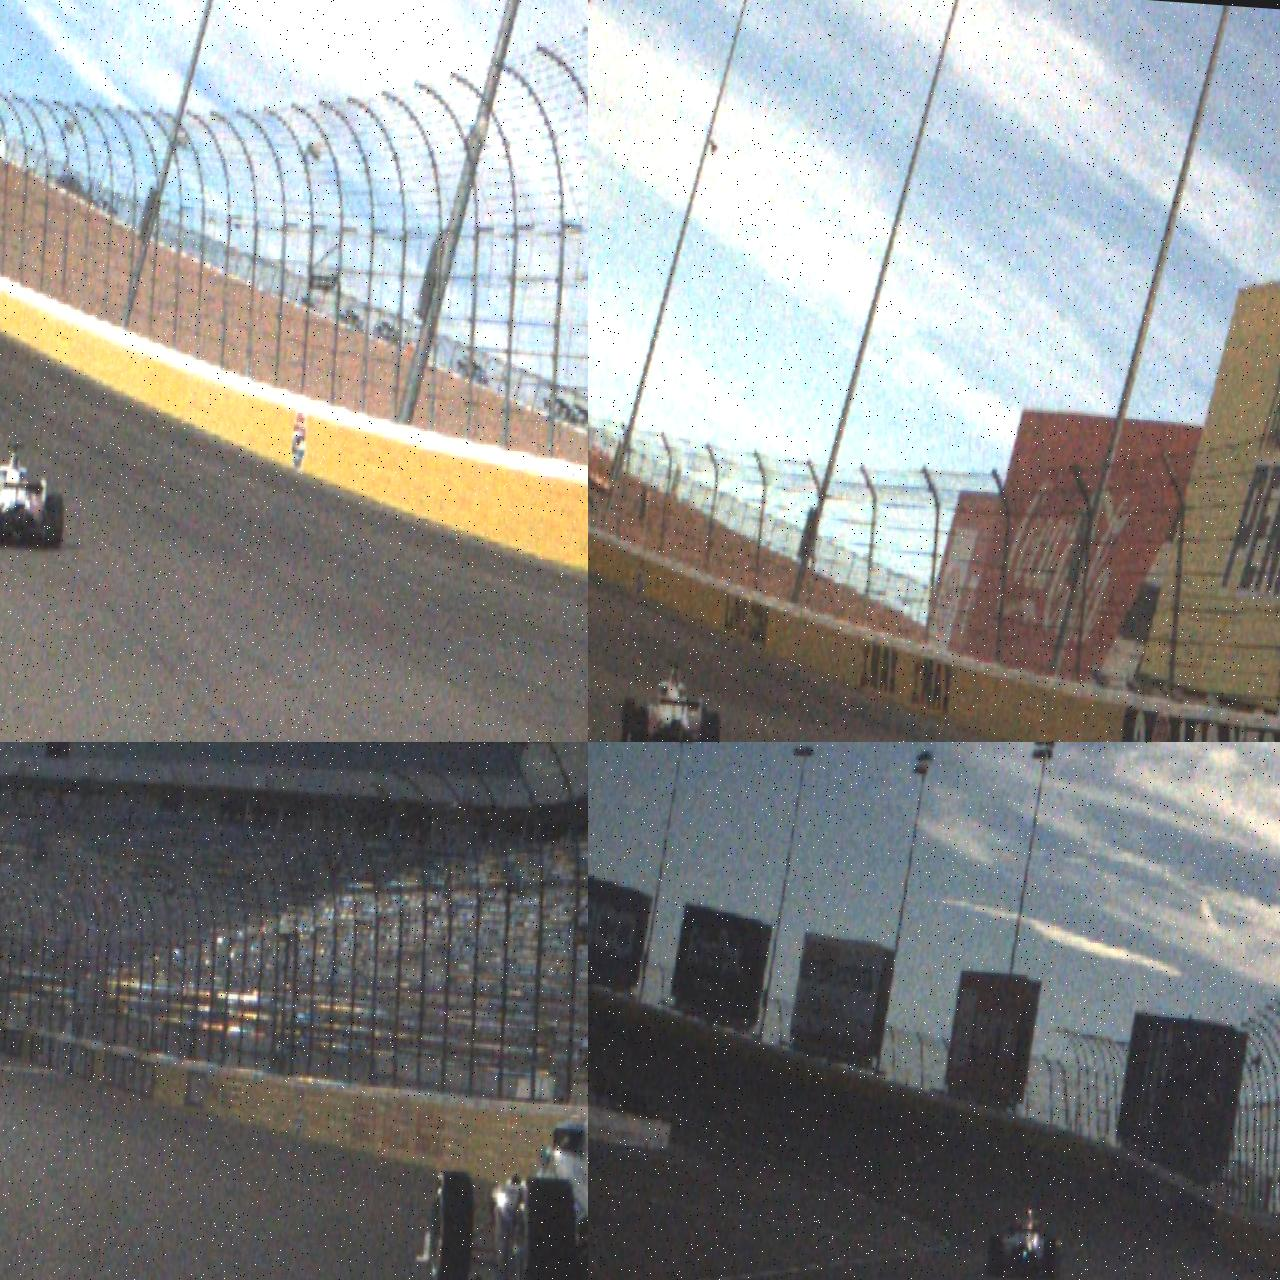AV: (410, 1035, 588, 1280), (617, 656, 726, 742), (0, 437, 69, 554), (983, 1196, 1065, 1280)
Wheel: (504, 1173, 583, 1280), (425, 1167, 479, 1280), (43, 493, 66, 551), (618, 695, 636, 742), (985, 1233, 1003, 1279), (627, 706, 649, 742), (699, 708, 722, 742), (1044, 1237, 1061, 1280)
